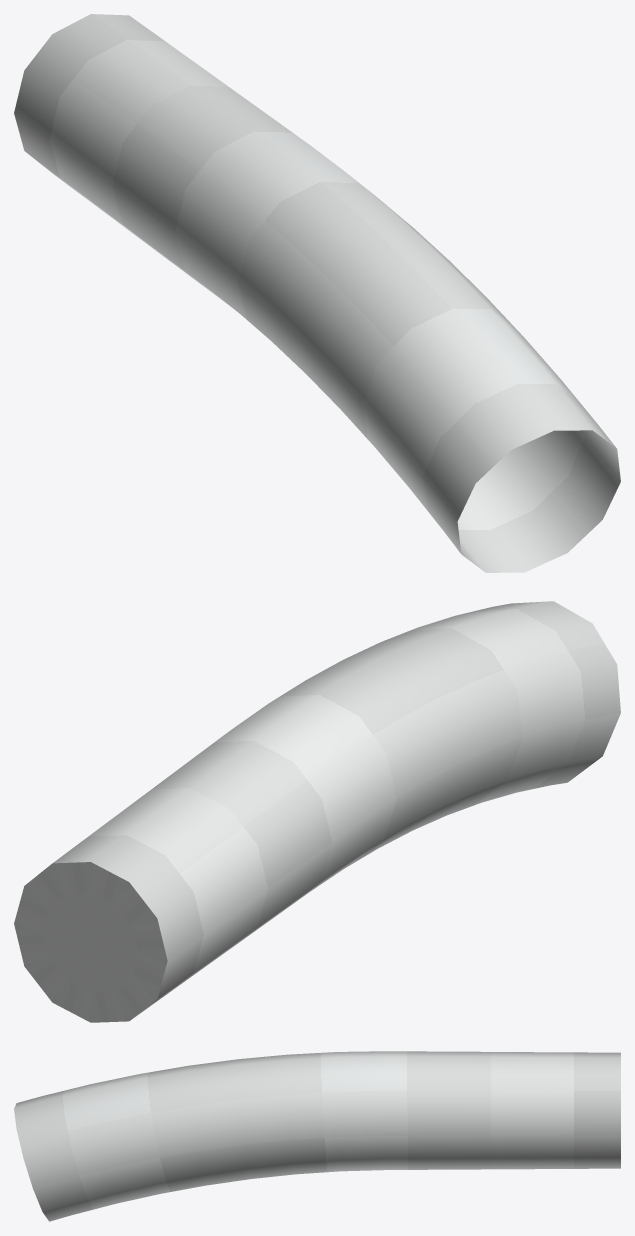
The model's file is luminairearm_caltrans10ftstraight_c5.obj.
3 views of the same model, one above another, from view 1: azimuth 30°, elevation 25°; view 2: azimuth 150°, elevation 25°; view 3: azimuth 270°, elevation 25° (orthographic). The views are drawn at different scales.
Visible parts, largest first — view 1: luminairearm_caltrans10ftstraight_c5; view 2: luminairearm_caltrans10ftstraight_c5; view 3: luminairearm_caltrans10ftstraight_c5.
Part boxes in pixels (box(x1,y1,x2,y2)): luminairearm_caltrans10ftstraight_c5: box(14, 14, 620, 572); luminairearm_caltrans10ftstraight_c5: box(14, 601, 620, 1022); luminairearm_caltrans10ftstraight_c5: box(14, 1051, 620, 1221).
Size of the model in its own units: 0.1861 by 0.2642 by 0.9129.
